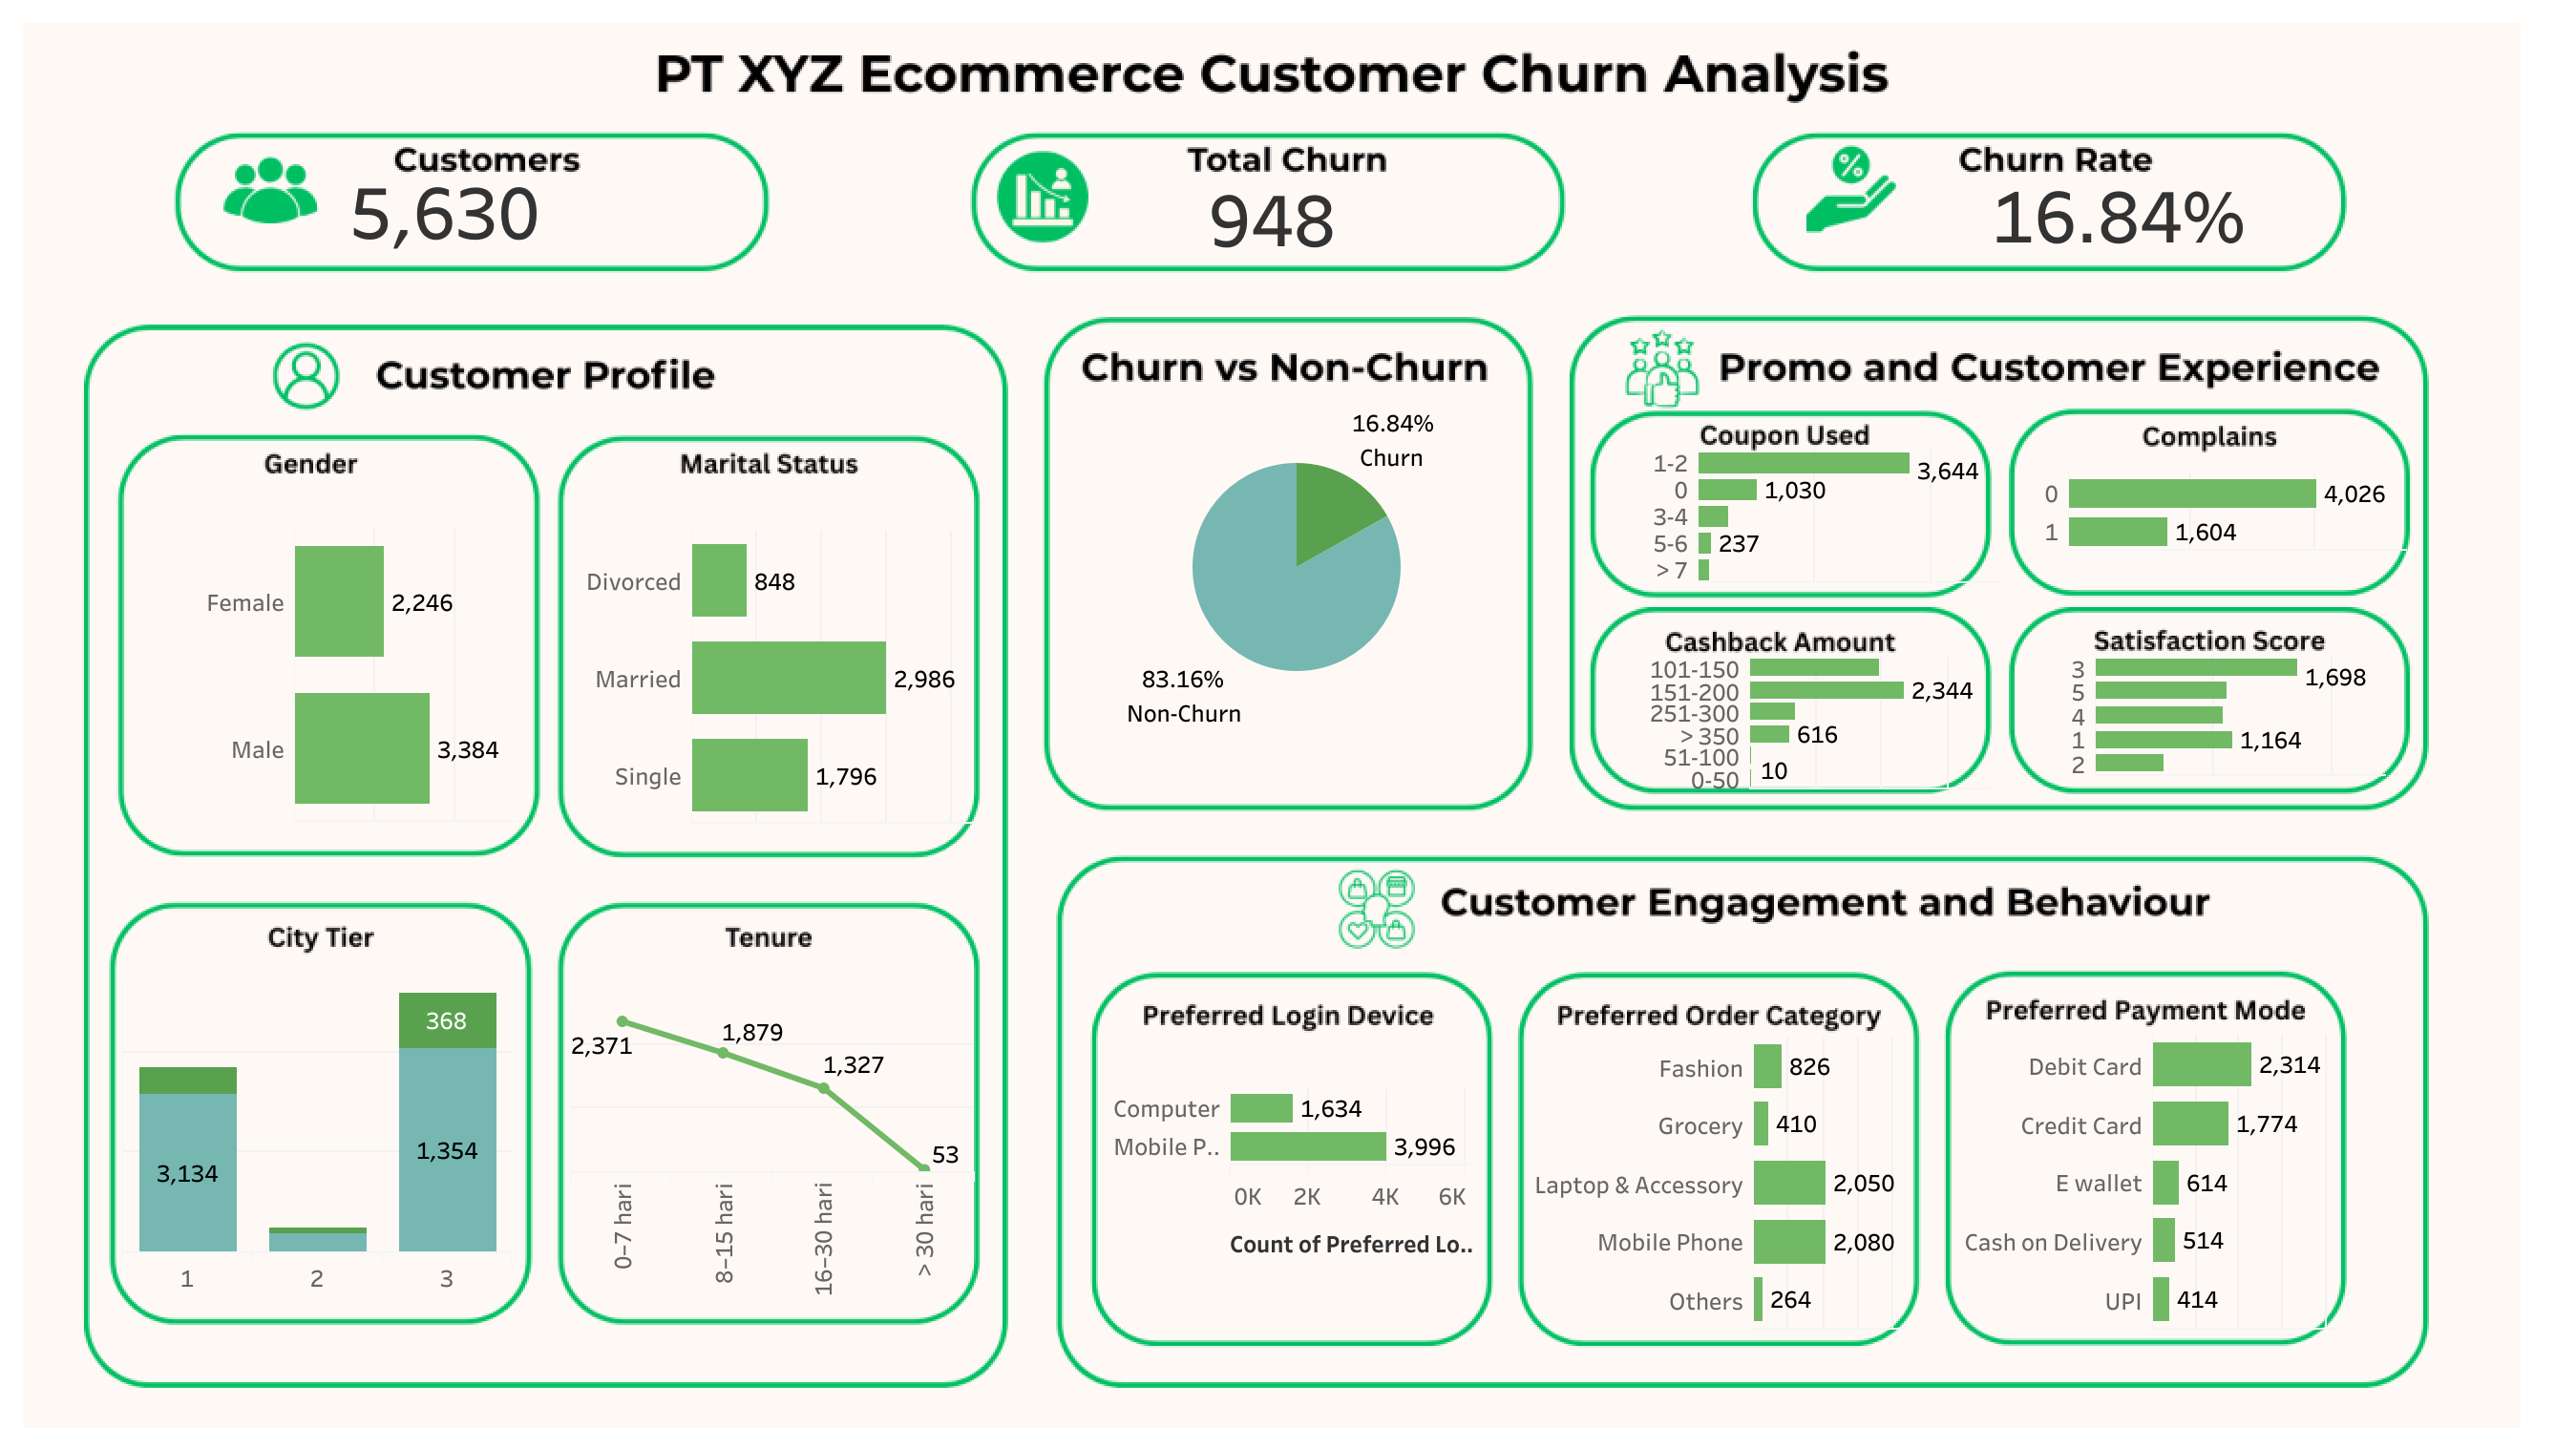

Layout of this report page (visuals, bound fields, positions):
{"tool":"tableau","page":{"name":"Dashboard 3","canvas":[1350,760],"ordinal":0},"visuals":[{"type":"image","param":"Image/PT XYZ Ecommerce Customer Churn Analysis.png","box":[8,8,1334,744]},{"type":"worksheet","title":"Total Customer","mark":"Automatic","box":[164.6,72.7,122.5,59.6]},{"type":"worksheet","title":"Churn Rate","mark":"Automatic","box":[998,73,182,63]},{"type":"worksheet","title":"Total Churn","mark":"Automatic","box":[566.3,75.3,137.6,62.2]},{"type":"worksheet","title":"CRate_Pie","mark":"Pie","box":[561.1,173,236.4,232.6]},{"type":"worksheet","title":"TPS_CouponUsed","mark":"Automatic","rows":["Calculation_6665327479200931840"],"cols":["Calculation_6665327479200931840"],"box":[848.9,235.2,198.2,69.4]},{"type":"worksheet","title":"Experience_Complain","mark":"Automatic","rows":["Complain"],"cols":["Complain"],"box":[1051,248,209,68]},{"type":"worksheet","title":"Profile_Gender","mark":"Automatic","rows":["Gender"],"cols":["Gender"],"box":[74,261,196,169]},{"type":"worksheet","title":"Profile_Marital","mark":"Automatic","rows":["MaritalStatus"],"cols":["MaritalStatus"],"box":[301.6,263.4,208.8,167.7]},{"type":"worksheet","title":"Experience_SatisfactionScore","mark":"Automatic","rows":["SatisfactionScore"],"cols":["SatisfactionScore"],"box":[1065,343,184,63]},{"type":"worksheet","title":"TPS_CashbackAMount","mark":"Bar","rows":["Calculation_2882726004286681088"],"cols":["Calculation_2882726004286681088"],"box":[848.2,344,193.6,69.4]},{"type":"worksheet","title":"Profile_CityTier","mark":"Automatic","rows":["CityTier"],"cols":["CityTier"],"box":[63.9,513,205.5,165.1]},{"type":"worksheet","title":"Profile_Tenure","mark":"Line","rows":["Calculation_2882726004288344065"],"cols":["Calculation_2882726004288344065"],"box":[299,514.3,211.4,165.8]},{"type":"worksheet","title":"TPS_PreferredPaymentMode","mark":"Bar","rows":["PreferredPaymentMode"],"cols":["PreferredPaymentMode"],"box":[1023,542,200,154]},{"type":"worksheet","title":"Engagement_PreferOrderCat","mark":"Automatic","rows":["PreferedOrderCat"],"cols":["PreferedOrderCat"],"box":[802,543,196,153]},{"type":"worksheet","title":"Engagement_PreferredLoginDevice","mark":"Automatic","rows":["PreferredLoginDevice"],"cols":["PreferredLoginDevice"],"box":[580,570,191,97]}]}

Visuals, with their boxes in screenshot pixels (x1, y1, x2, y2), scaled from the page's 1350x760 canvas onto the 2576x1449 screenshot:
image: pyautogui.locateOnScreen(15, 15, 2561, 1434)
"Total Customer" worksheet: pyautogui.locateOnScreen(314, 138, 548, 252)
"Churn Rate" worksheet: pyautogui.locateOnScreen(1905, 139, 2251, 260)
"Total Churn" worksheet: pyautogui.locateOnScreen(1081, 143, 1343, 262)
"CRate_Pie" worksheet (Pie marks): pyautogui.locateOnScreen(1070, 330, 1522, 773)
"TPS_CouponUsed" worksheet: pyautogui.locateOnScreen(1620, 449, 1998, 580)
"Experience_Complain" worksheet: pyautogui.locateOnScreen(2005, 472, 2404, 602)
"Profile_Gender" worksheet: pyautogui.locateOnScreen(141, 497, 516, 820)
"Profile_Marital" worksheet: pyautogui.locateOnScreen(576, 502, 974, 822)
"Experience_SatisfactionScore" worksheet: pyautogui.locateOnScreen(2032, 654, 2383, 774)
"TPS_CashbackAMount" worksheet (Bar marks): pyautogui.locateOnScreen(1618, 656, 1988, 788)
"Profile_CityTier" worksheet: pyautogui.locateOnScreen(122, 978, 514, 1292)
"Profile_Tenure" worksheet (Line marks): pyautogui.locateOnScreen(571, 980, 974, 1296)
"TPS_PreferredPaymentMode" worksheet (Bar marks): pyautogui.locateOnScreen(1952, 1034, 2333, 1327)
"Engagement_PreferOrderCat" worksheet: pyautogui.locateOnScreen(1531, 1036, 1905, 1327)
"Engagement_PreferredLoginDevice" worksheet: pyautogui.locateOnScreen(1107, 1086, 1471, 1271)
